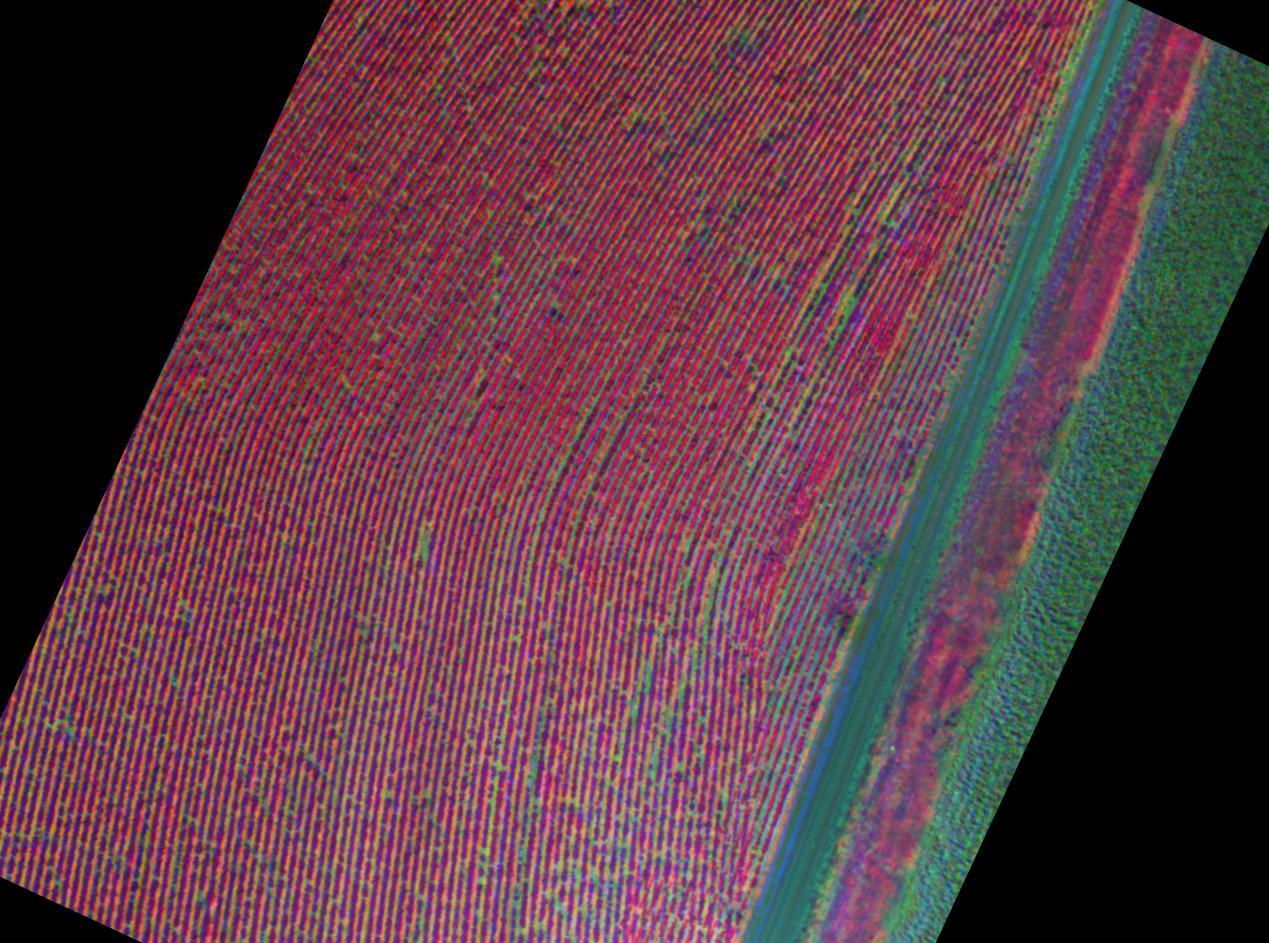dc: (383, 792, 388, 796), (69, 728, 72, 732), (576, 870, 580, 873), (478, 879, 481, 882), (494, 258, 496, 261)
